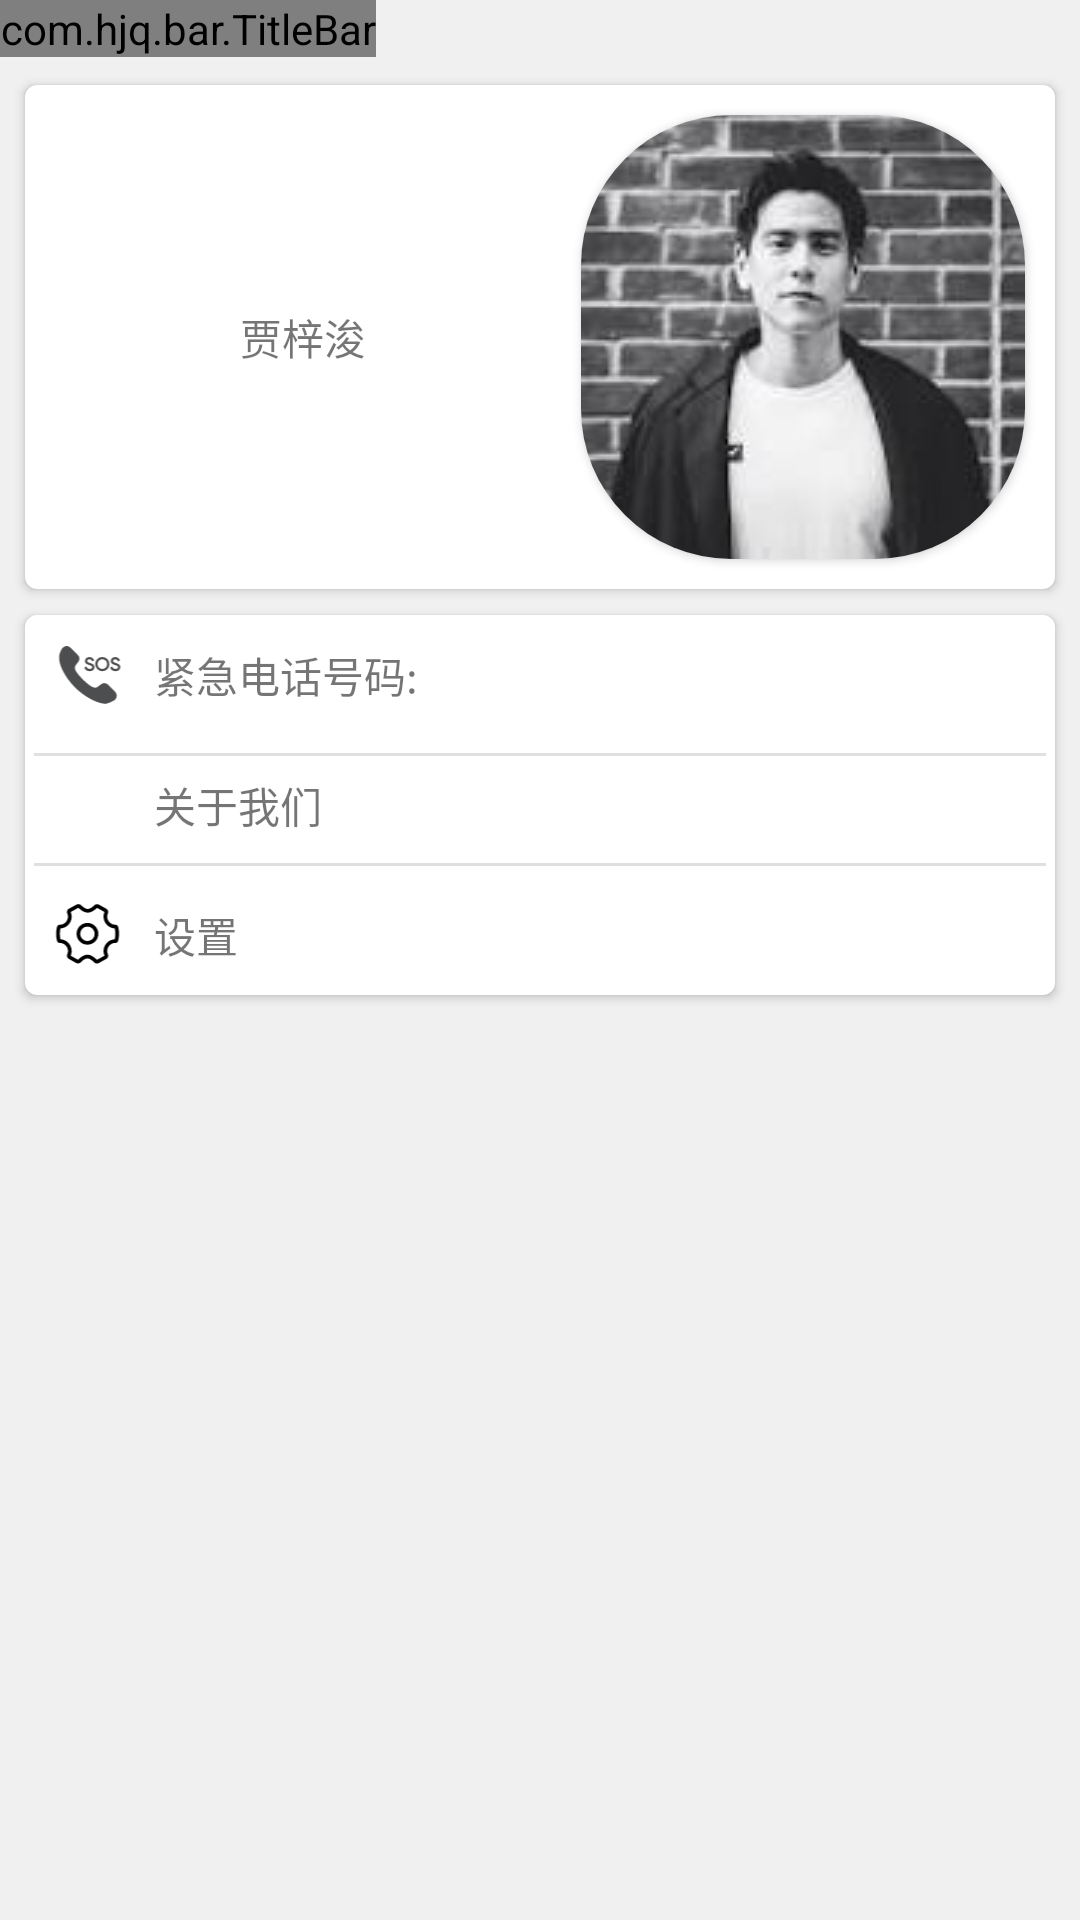

Named icons in this screenshot (1080*1920) and their centers, (x,y):
number: (90,675)
